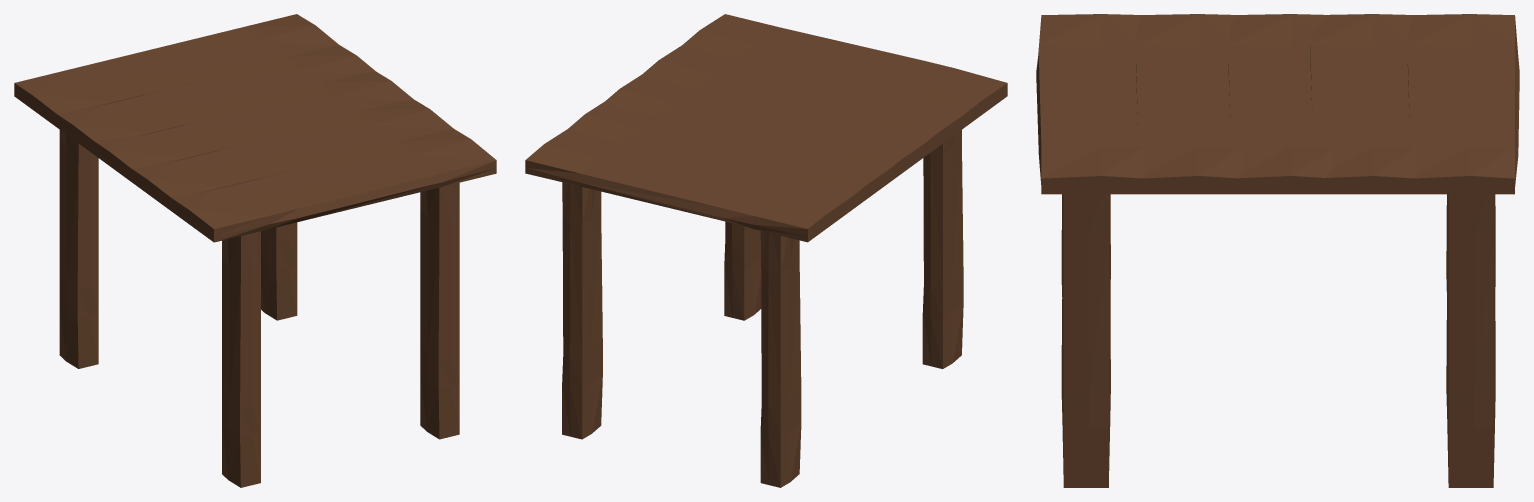
The model's file is Tisch.fbx.
3 views of the same model, side by side, from view 1: azimuth 30°, elevation 25°; view 2: azimuth 150°, elevation 25°; view 3: azimuth 270°, elevation 25° (orthographic). The views are drawn at different scales.
Visible parts, largest first — view 1: Holzi_32, Holzi_7, Holzi_2, Holzi_6, Holzi_5, Bein_II, Bein_III, Bein_I, Bein; view 2: Holzi_7, Holzi_32, Holzi_2, Holzi_6, Holzi_5, Bein_I, Bein, Bein_III, Bein_II; view 3: Holzi_7, Holzi_32, Holzi_2, Holzi_6, Holzi_5, Bein, Bein_II.
Boxes of the visible parts, bbox=[...] form: Holzi_32: bbox=[170, 128, 496, 242]; Holzi_7: bbox=[14, 14, 338, 126]; Holzi_2: bbox=[129, 99, 453, 211]; Holzi_6: bbox=[55, 45, 376, 157]; Holzi_5: bbox=[90, 72, 413, 183]; Bein_II: bbox=[420, 182, 459, 439]; Bein_III: bbox=[222, 231, 260, 487]; Bein_I: bbox=[59, 130, 98, 368]; Bein: bbox=[261, 222, 297, 320]; Holzi_7: bbox=[525, 129, 851, 242]; Holzi_32: bbox=[682, 14, 1007, 125]; Holzi_2: bbox=[642, 45, 966, 157]; Holzi_6: bbox=[568, 101, 892, 211]; Holzi_5: bbox=[605, 74, 927, 186]; Bein_I: bbox=[760, 231, 801, 487]; Bein: bbox=[562, 182, 602, 439]; Bein_III: bbox=[922, 130, 963, 368]; Bein_II: bbox=[724, 221, 761, 320]; Holzi_7: bbox=[1407, 14, 1519, 194]; Holzi_32: bbox=[1036, 14, 1145, 194]; Holzi_2: bbox=[1136, 14, 1243, 194]; Holzi_6: bbox=[1310, 14, 1417, 194]; Holzi_5: bbox=[1228, 14, 1335, 194]; Bein: bbox=[1446, 194, 1495, 487]; Bein_II: bbox=[1061, 194, 1110, 487].
Size of the model in its own units: 322 by 301 by 402.
